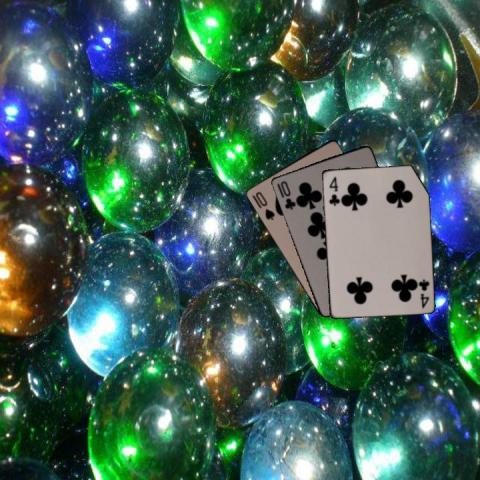10c: (277, 178, 297, 211)
10s: (252, 189, 276, 221)
4c: (415, 276, 431, 309), (326, 174, 340, 207)
